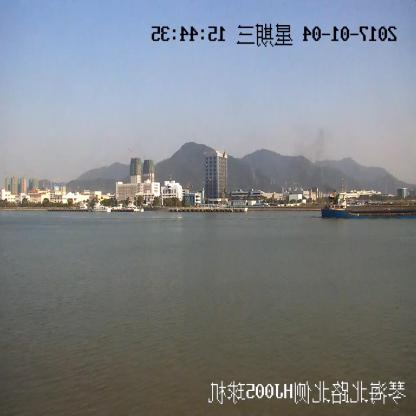Bulk Carrier: (320, 182, 416, 219)
